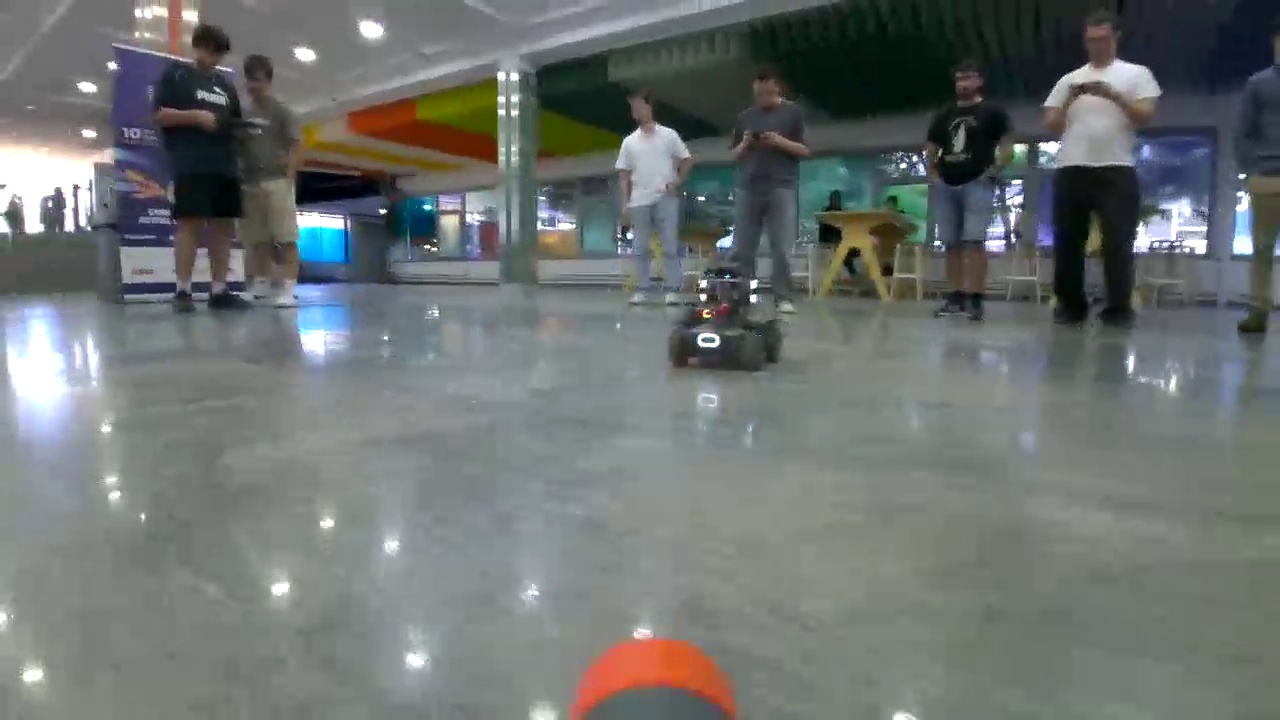robot: (673, 268, 781, 369)
